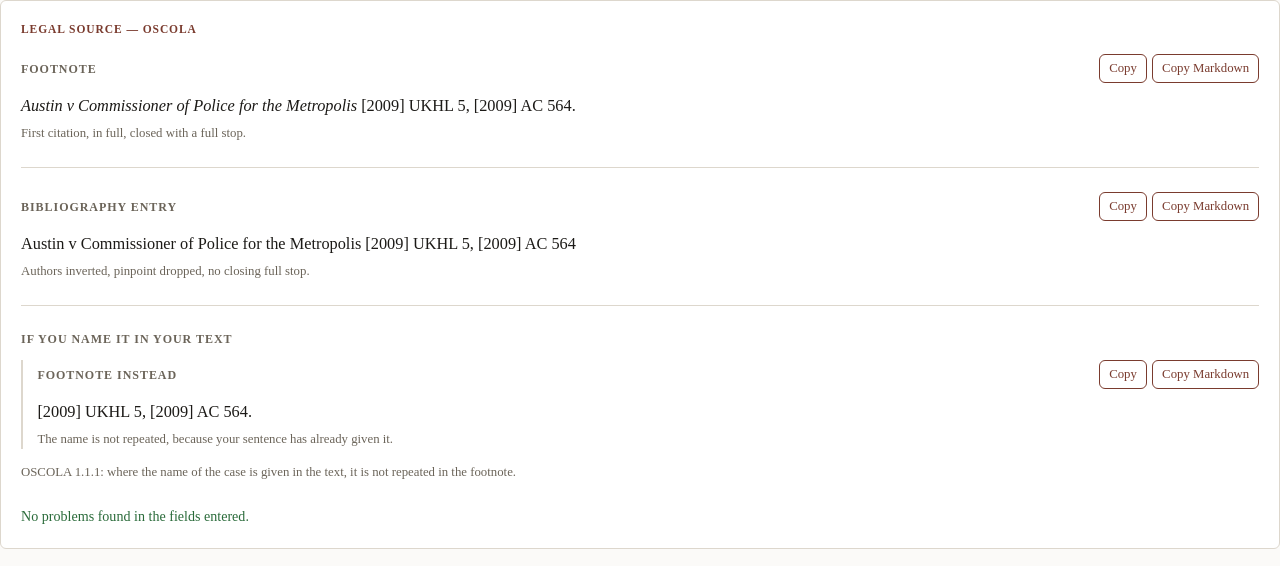
it: copying › confirms the copy to the reader
Click the 1st button "Copy".
click(1123, 69)  # box [1099,54,1147,84]
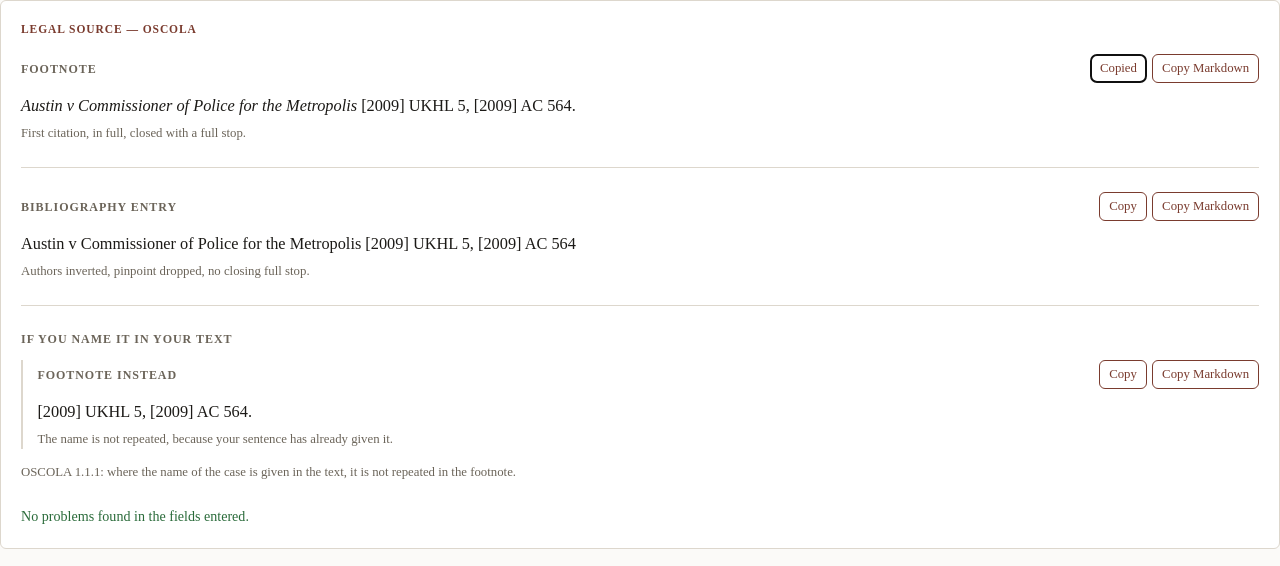
Result: the button "Copied" is shown at [1090,54,1147,84]
